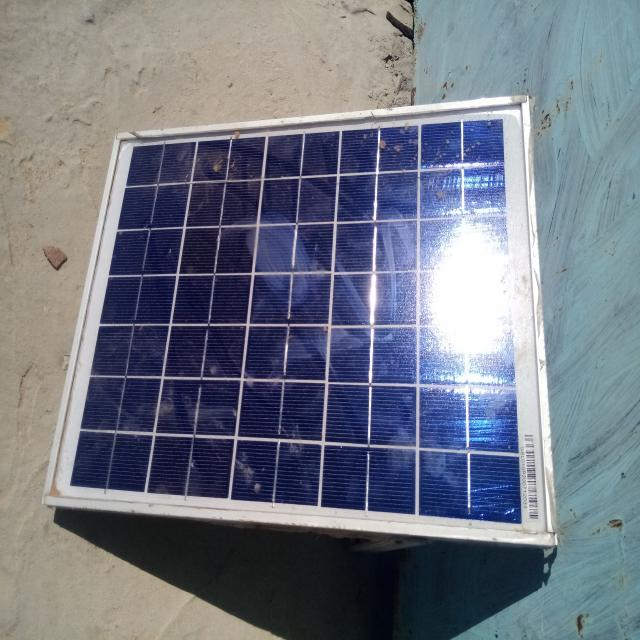faulty: (45, 98, 555, 543)
